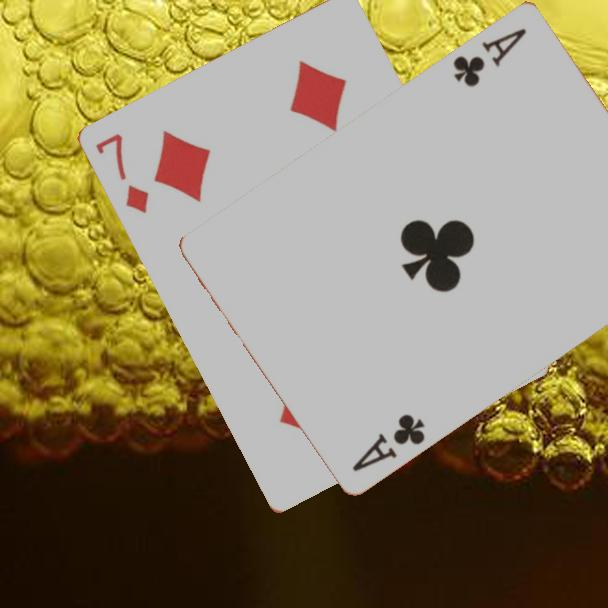c01: (449, 24, 530, 90), (348, 409, 429, 474)
d07: (92, 130, 153, 217)
